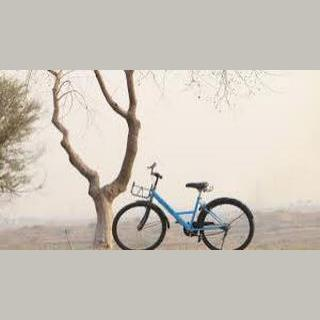Bike: (111, 161, 255, 250)
